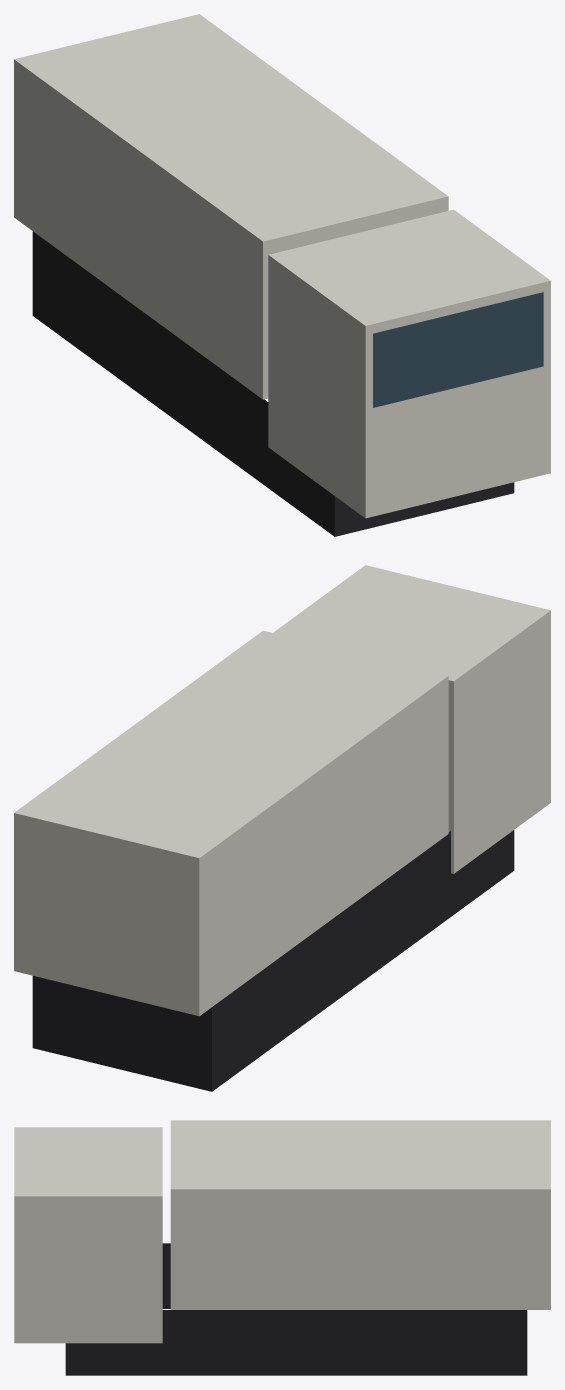
File: 3_far.fbx
3 views of the same model, one above another, from view 1: azimuth 30°, elevation 25°; view 2: azimuth 150°, elevation 25°; view 3: azimuth 270°, elevation 25° (orthographic). The views are drawn at different scales.
Visible parts, largest first — view 1: 11_3_far; view 2: 11_3_far; view 3: 11_3_far.
Boxes of the visible parts, bbox=[...] form: 11_3_far: bbox=[14, 14, 550, 536]; 11_3_far: bbox=[14, 565, 550, 1091]; 11_3_far: bbox=[14, 1120, 550, 1375].
Size of the model in its own units: 2.48 by 3.14 by 8.14.
